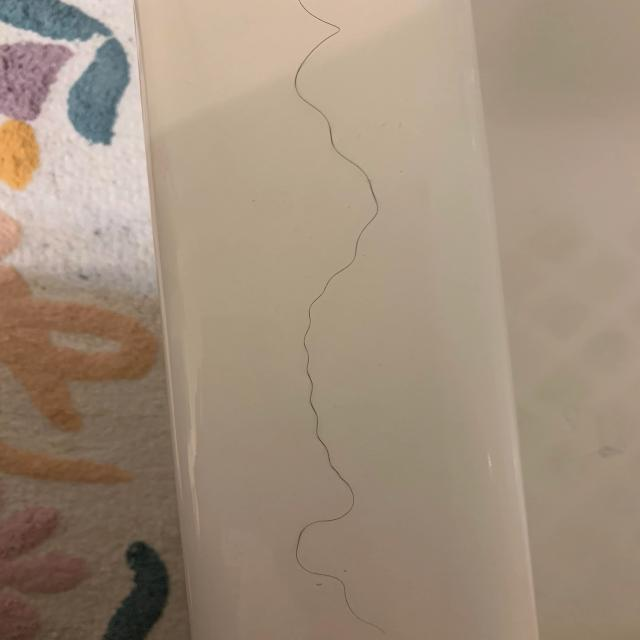hair: (284, 4, 392, 637)
